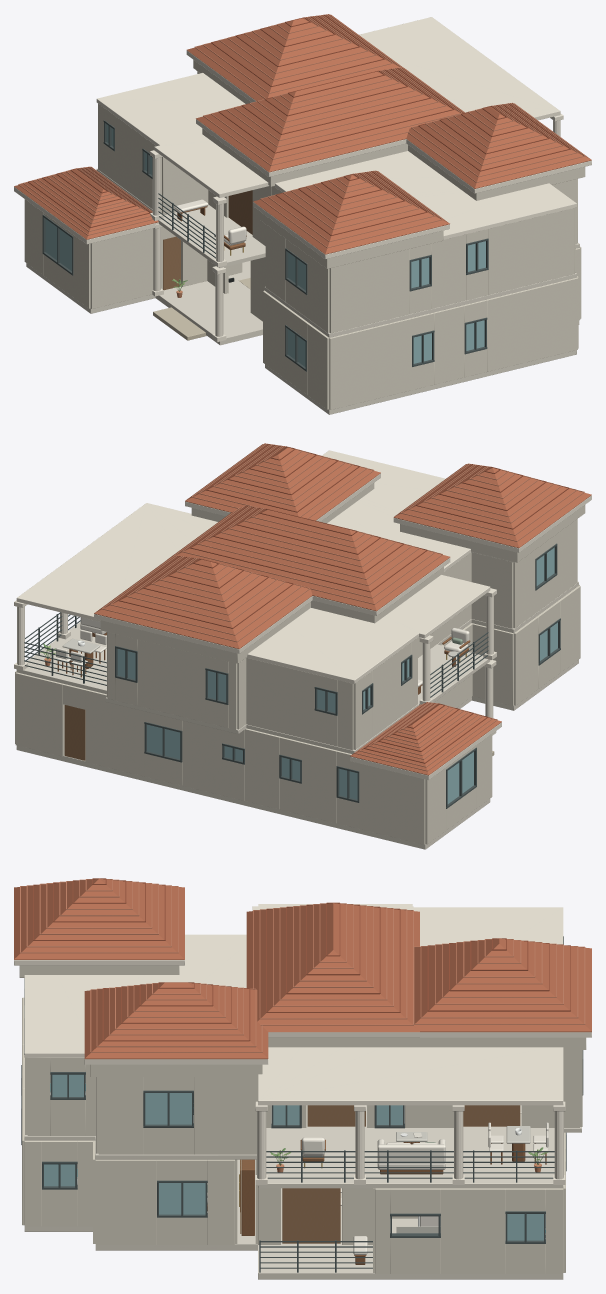
Rendered from exterior.glb.
3 renders of one model, top to bottom at view 1: azimuth 30°, elevation 25°; view 2: azimuth 150°, elevation 25°; view 3: azimuth 270°, elevation 25°, orthographic. The views are drawn at different scales.
Visible parts, largest first — view 1: roof--clay, ground--ivory, roof--chalk, upper--ivory, roof--claylight, ground--tile, roof--ivory, roof--claydark, upper--tile, upper--bronze, ground--glass, ground--bronze (+7 smaller); view 2: roof--clay, ground--ivory, roof--chalk, upper--ivory, roof--claylight, upper--tile, roof--ivory, roof--claydark, upper--bronze, ground--glass, ground--tile, ground--bronze (+6 smaller); view 3: roof--clay, roof--chalk, ground--ivory, upper--ivory, upper--tile, roof--claylight, ground--tile, roof--ivory, upper--bronze, roof--claydark, ground--bronze, upper--chalk (+8 smaller).
Boxes of the visible parts, left/top/right/bottom form: roof--clay: left=14, top=14, right=591, bottom=254; ground--ivory: left=24, top=199, right=581, bottom=409; roof--chalk: left=14, top=17, right=591, bottom=259; upper--ivory: left=98, top=71, right=577, bottom=333; roof--claylight: left=18, top=14, right=584, bottom=248; ground--tile: left=26, top=261, right=579, bottom=414; roof--ivory: left=193, top=60, right=585, bottom=268; roof--claydark: left=28, top=14, right=570, bottom=235; upper--tile: left=96, top=168, right=579, bottom=337; upper--bronze: left=103, top=120, right=488, bottom=294; ground--glass: left=45, top=219, right=484, bottom=366; ground--bronze: left=42, top=215, right=487, bottom=371; roof--clay: left=94, top=444, right=591, bottom=775; ground--ivory: left=15, top=584, right=580, bottom=844; roof--chalk: left=16, top=450, right=591, bottom=780; upper--ivory: left=107, top=519, right=577, bottom=750; roof--claylight: left=102, top=443, right=584, bottom=771; upper--tile: left=16, top=581, right=578, bottom=754; roof--ivory: left=100, top=483, right=585, bottom=663; roof--claydark: left=118, top=444, right=569, bottom=763; upper--bronze: left=24, top=543, right=557, bottom=715; ground--glass: left=147, top=622, right=557, bottom=803; ground--tile: left=16, top=660, right=578, bottom=849; ground--bronze: left=144, top=618, right=560, bottom=808; roof--clay: left=14, top=878, right=591, bottom=1059; roof--chalk: left=14, top=904, right=591, bottom=1105; ground--ivory: left=22, top=997, right=565, bottom=1273; upper--ivory: left=25, top=1050, right=582, bottom=1154; upper--tile: left=24, top=1058, right=581, bottom=1188; roof--claylight: left=20, top=879, right=585, bottom=1052; ground--tile: left=24, top=1159, right=563, bottom=1279; roof--ivory: left=19, top=965, right=586, bottom=1076; upper--bronze: left=24, top=936, right=583, bottom=1182; roof--claydark: left=33, top=878, right=570, bottom=1041; ground--bronze: left=21, top=1065, right=566, bottom=1272; upper--chalk: left=252, top=906, right=565, bottom=1184.
Bounding box in the file's own units: 17.02 × 8.17 × 17.32.
Materials: 40 (11 with a texture image).
